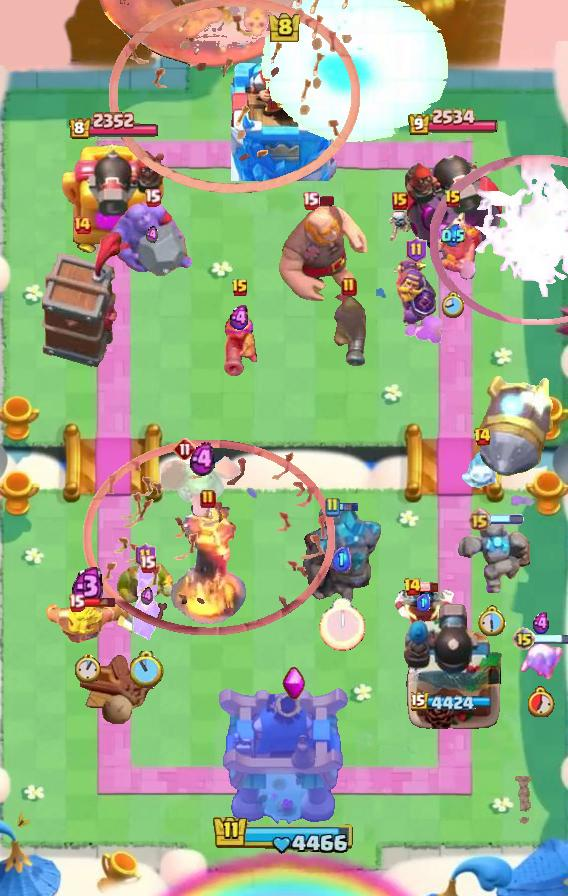archer-queen: (109, 199, 195, 279)
balloon: (275, 204, 369, 304)
bandit: (422, 209, 484, 281)
barbarian-evolution: (430, 154, 568, 326)
bat: (461, 452, 503, 498)
bomb-tower: (220, 301, 260, 377), (330, 290, 368, 368)
cannoneer-tower: (300, 507, 384, 605)
clock: (212, 814, 356, 856)
dart-goblin: (40, 230, 124, 368)
electro-dragon: (169, 500, 247, 628)
electro-spirit: (71, 565, 105, 607), (190, 443, 215, 477), (228, 305, 252, 331), (441, 224, 465, 248), (531, 613, 552, 636), (333, 547, 351, 571), (141, 587, 153, 606), (146, 226, 158, 244), (418, 594, 430, 610)
electro-wizard: (161, 454, 243, 520)
elixir: (319, 598, 365, 651), (130, 651, 164, 689), (477, 605, 506, 637), (528, 686, 555, 717), (75, 654, 101, 683), (443, 291, 466, 319)
emote: (82, 596, 117, 608), (534, 633, 568, 645), (488, 514, 524, 525), (337, 502, 359, 513), (420, 582, 439, 594), (316, 194, 336, 205)
firecracker-evolution: (394, 258, 438, 326)
fisherman: (512, 776, 535, 826)
flying-machine: (116, 558, 174, 612)
goblin-ball: (130, 561, 164, 643)
goblin-hut: (44, 599, 132, 645)
heal-spirit: (386, 207, 414, 243)
king-tower: (216, 684, 352, 826), (231, 43, 337, 181)
lumberjack: (388, 588, 458, 648)
mega-knight: (255, 0, 452, 146)
mirror: (516, 641, 566, 679)
phoenix-egg: (96, 0, 316, 68)
selected: (407, 108, 499, 137), (68, 112, 160, 140), (412, 692, 497, 714)
skeleton-barrel: (108, 0, 372, 196), (83, 438, 335, 636)
skeleton-king-skill: (282, 667, 306, 701)
text: (173, 437, 197, 461), (512, 627, 536, 651), (468, 508, 491, 532), (405, 237, 426, 263), (135, 543, 156, 569), (72, 215, 92, 235), (402, 577, 422, 597), (473, 427, 492, 447), (444, 189, 462, 209), (231, 278, 249, 298), (67, 593, 85, 611), (302, 190, 319, 209), (139, 554, 156, 573), (341, 277, 357, 297), (200, 489, 216, 509), (324, 497, 340, 517), (144, 189, 161, 207), (392, 192, 408, 210)
tower-bar: (403, 601, 503, 731), (60, 138, 168, 256), (403, 138, 503, 256)
valkyrie-evolution: (454, 521, 530, 599)
x-bow: (477, 374, 556, 478)
